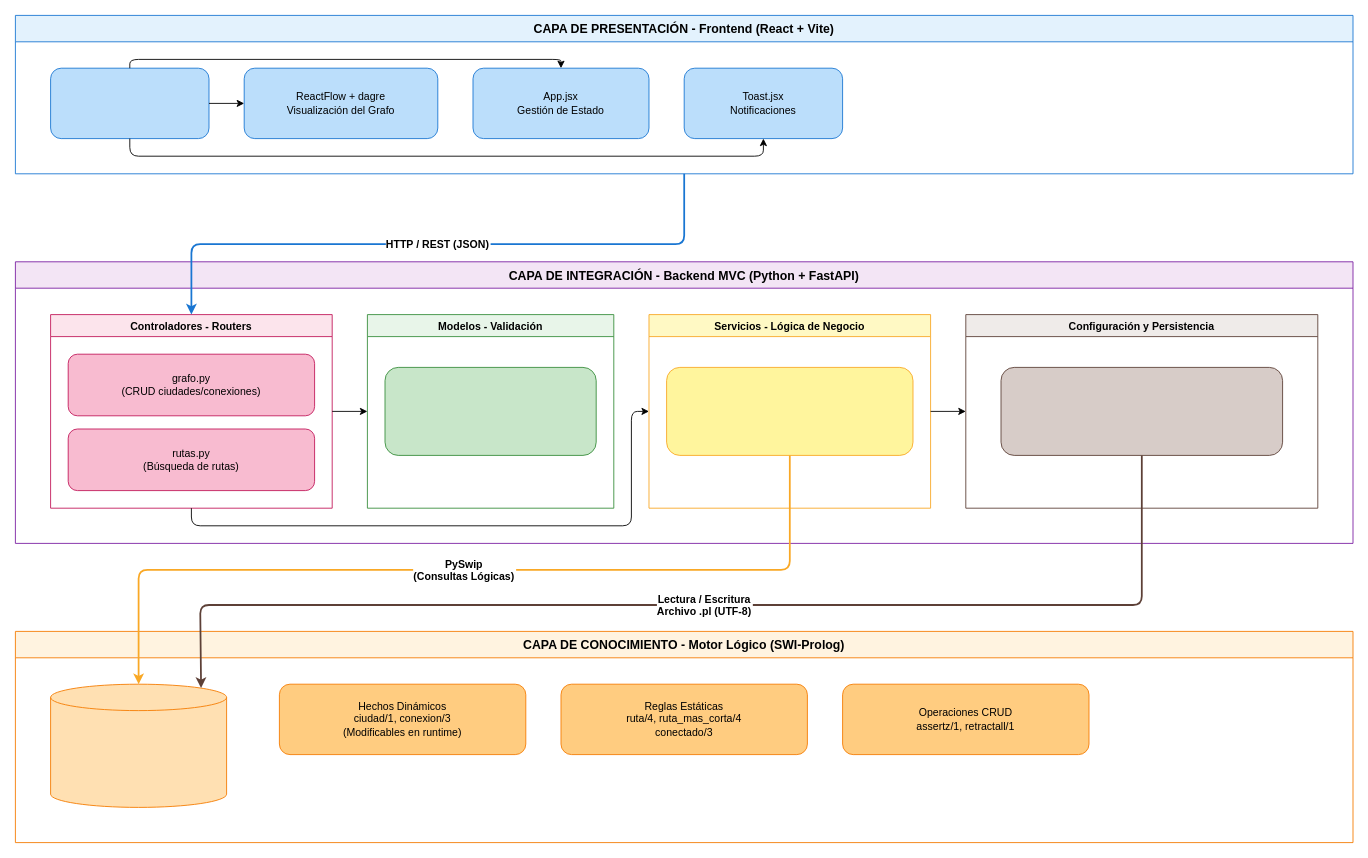
Some shapes in this 1368 by 858 pixel diagram are drawn without their labels. The shapes that lost their labels are listed below. From the top down, each one's centre as x and y in pixels, then its label:
(129,103): Interfaz de Usuario
(490,411): schemas.py Esquemas Pydantic (CiudadRequest, ConexionRequest)
(789,411): prolog_service.py Traductor JSON ↔ Prolog (PySwip)
(1141,411): database.py Gestor I/O UTF-8 Preserva reglas estáticas
(138,745): conocimiento.pl
